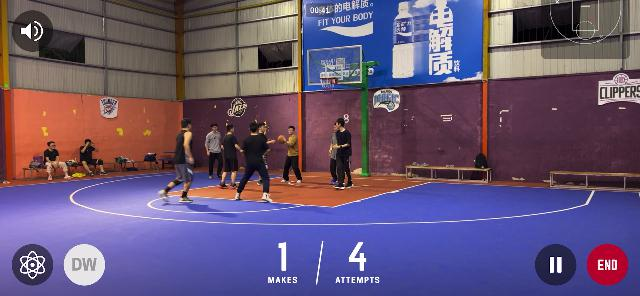ball: (276, 134, 286, 144)
basket: (319, 76, 336, 94)
